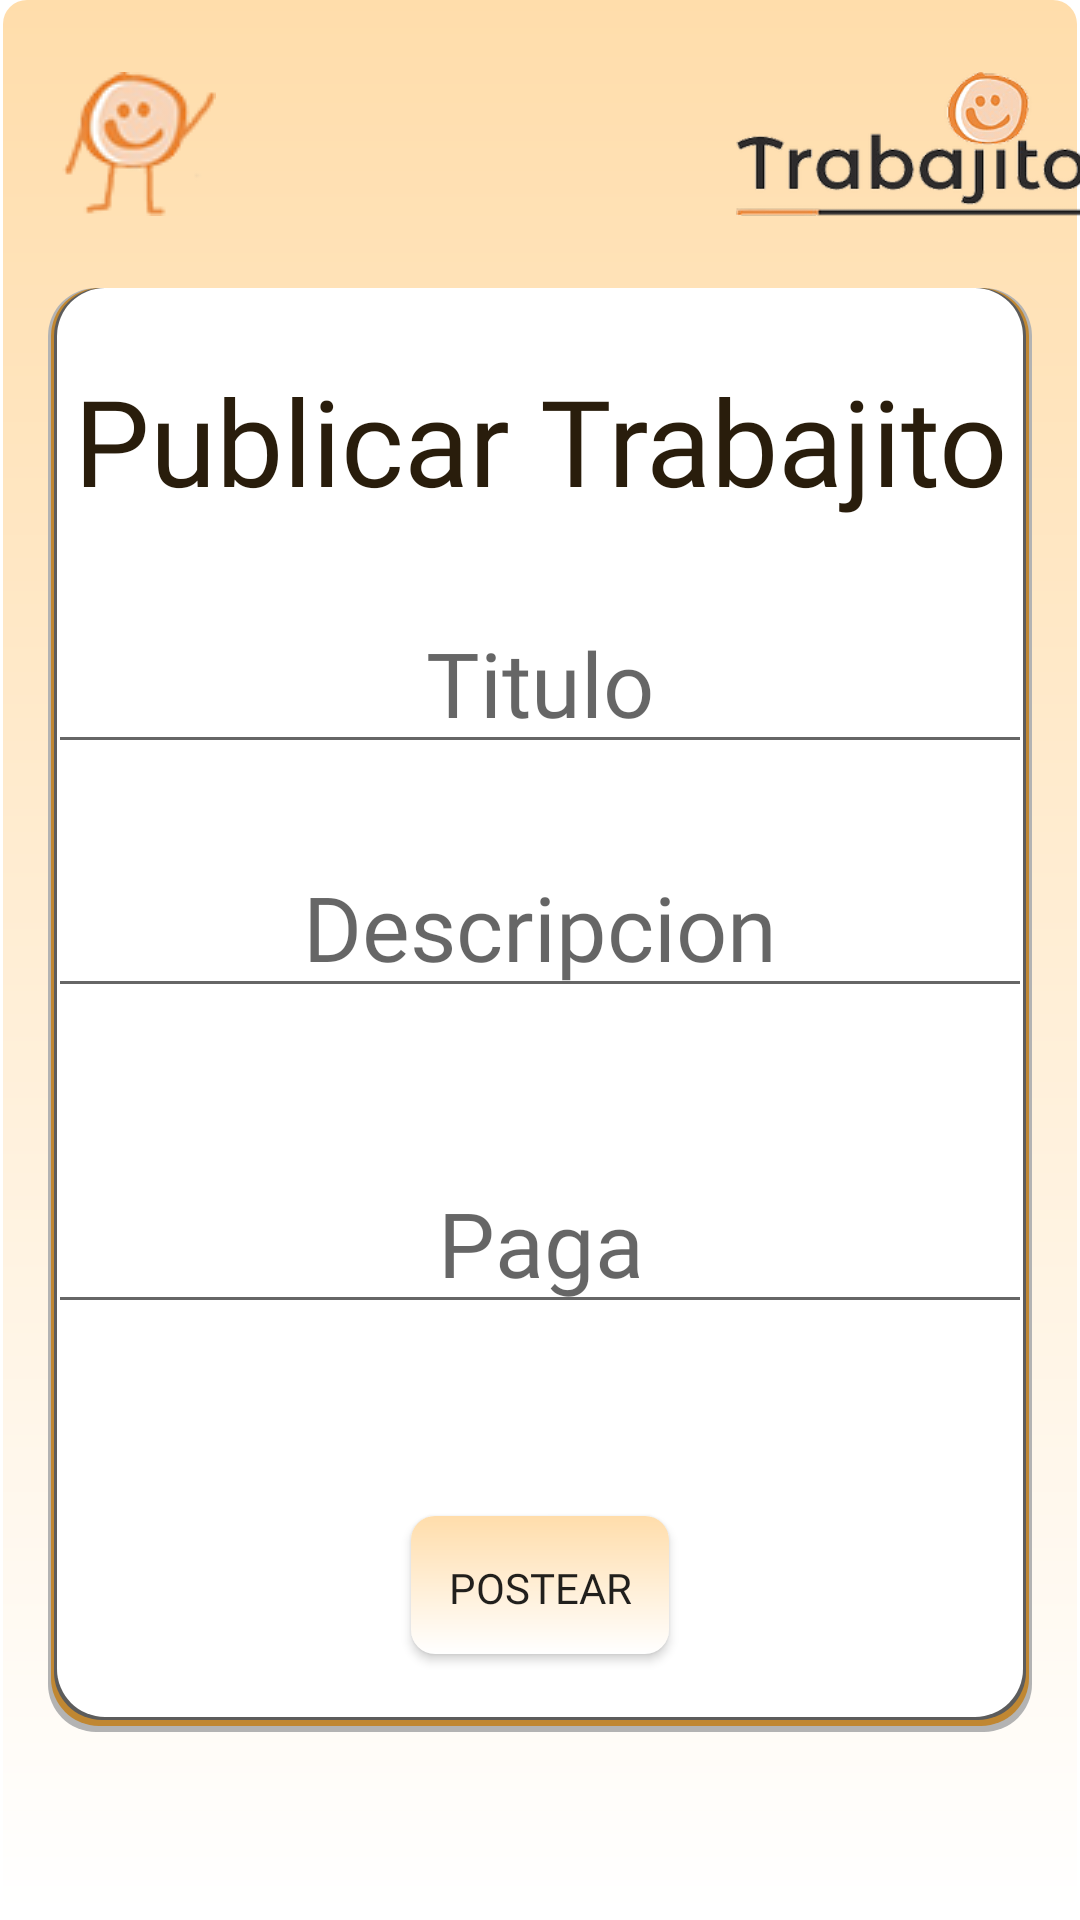

Icons on this 1080px x 1920px Android screen, each with its box as (x1, y1, x2, y2):
logito: (65, 72, 216, 216)
